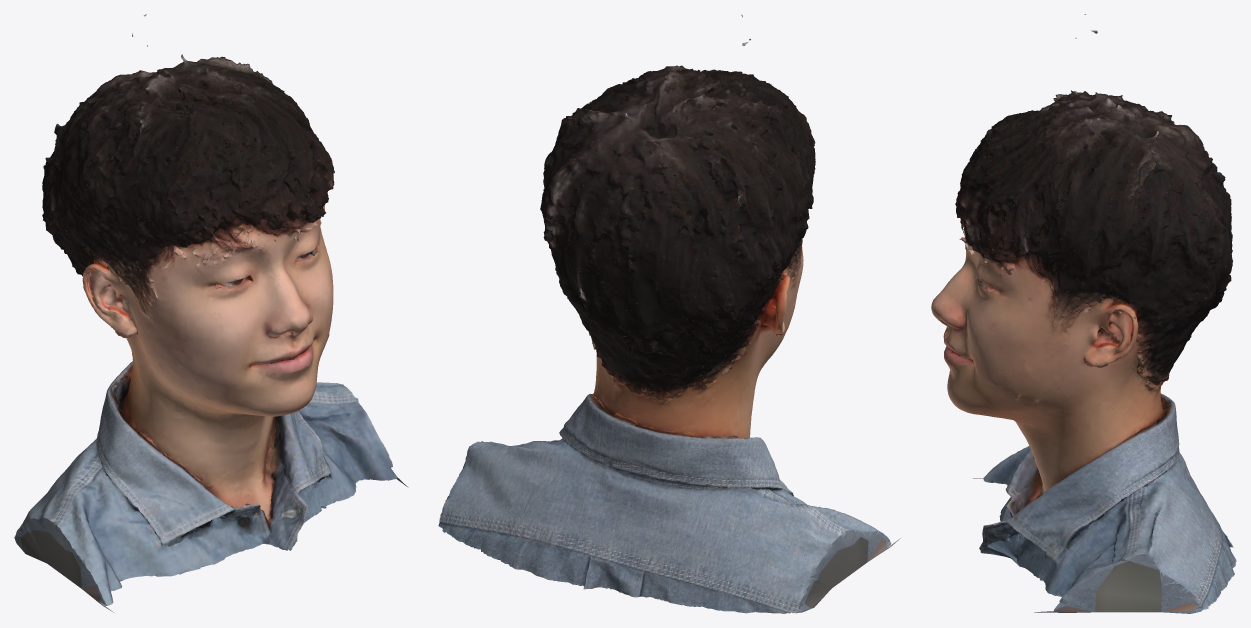
File: 真人头像_男01_opt.glb
3 views of the same model, side by side, from view 1: azimuth 30°, elevation 25°; view 2: azimuth 150°, elevation 25°; view 3: azimuth 270°, elevation 25° (orthographic). The views are drawn at different scales.
Parts seen in each view (by area): view 1: pth_Material_u1_v1, pth_Material_u1_v1_2, pth_Material_u1_v1_1, pth_Material_u1_v1_3; view 2: pth_Material_u1_v1, pth_Material_u1_v1_1, pth_Material_u1_v1_2, pth_Material_u1_v1_3; view 3: pth_Material_u1_v1, pth_Material_u1_v1_2, pth_Material_u1_v1_1, pth_Material_u1_v1_3.
Boxes of the visible parts, x1=… form: pth_Material_u1_v1: x1=14, y1=55, x2=408, y2=606; pth_Material_u1_v1_2: x1=78, y1=34, x2=334, y2=431; pth_Material_u1_v1_1: x1=18, y1=33, x2=391, y2=612; pth_Material_u1_v1_3: x1=80, y1=14, x2=333, y2=432; pth_Material_u1_v1: x1=438, y1=42, x2=891, y2=613; pth_Material_u1_v1_1: x1=440, y1=42, x2=900, y2=613; pth_Material_u1_v1_2: x1=591, y1=42, x2=815, y2=274; pth_Material_u1_v1_3: x1=608, y1=14, x2=815, y2=279; pth_Material_u1_v1: x1=931, y1=30, x2=1236, y2=613; pth_Material_u1_v1_2: x1=948, y1=30, x2=1097, y2=489; pth_Material_u1_v1_1: x1=936, y1=14, x2=1236, y2=613; pth_Material_u1_v1_3: x1=954, y1=14, x2=1169, y2=500.
Bounding box in the file's own units: 0.1911 × 0.2946 × 0.159.
Materials: 1 (1 with a texture image).
